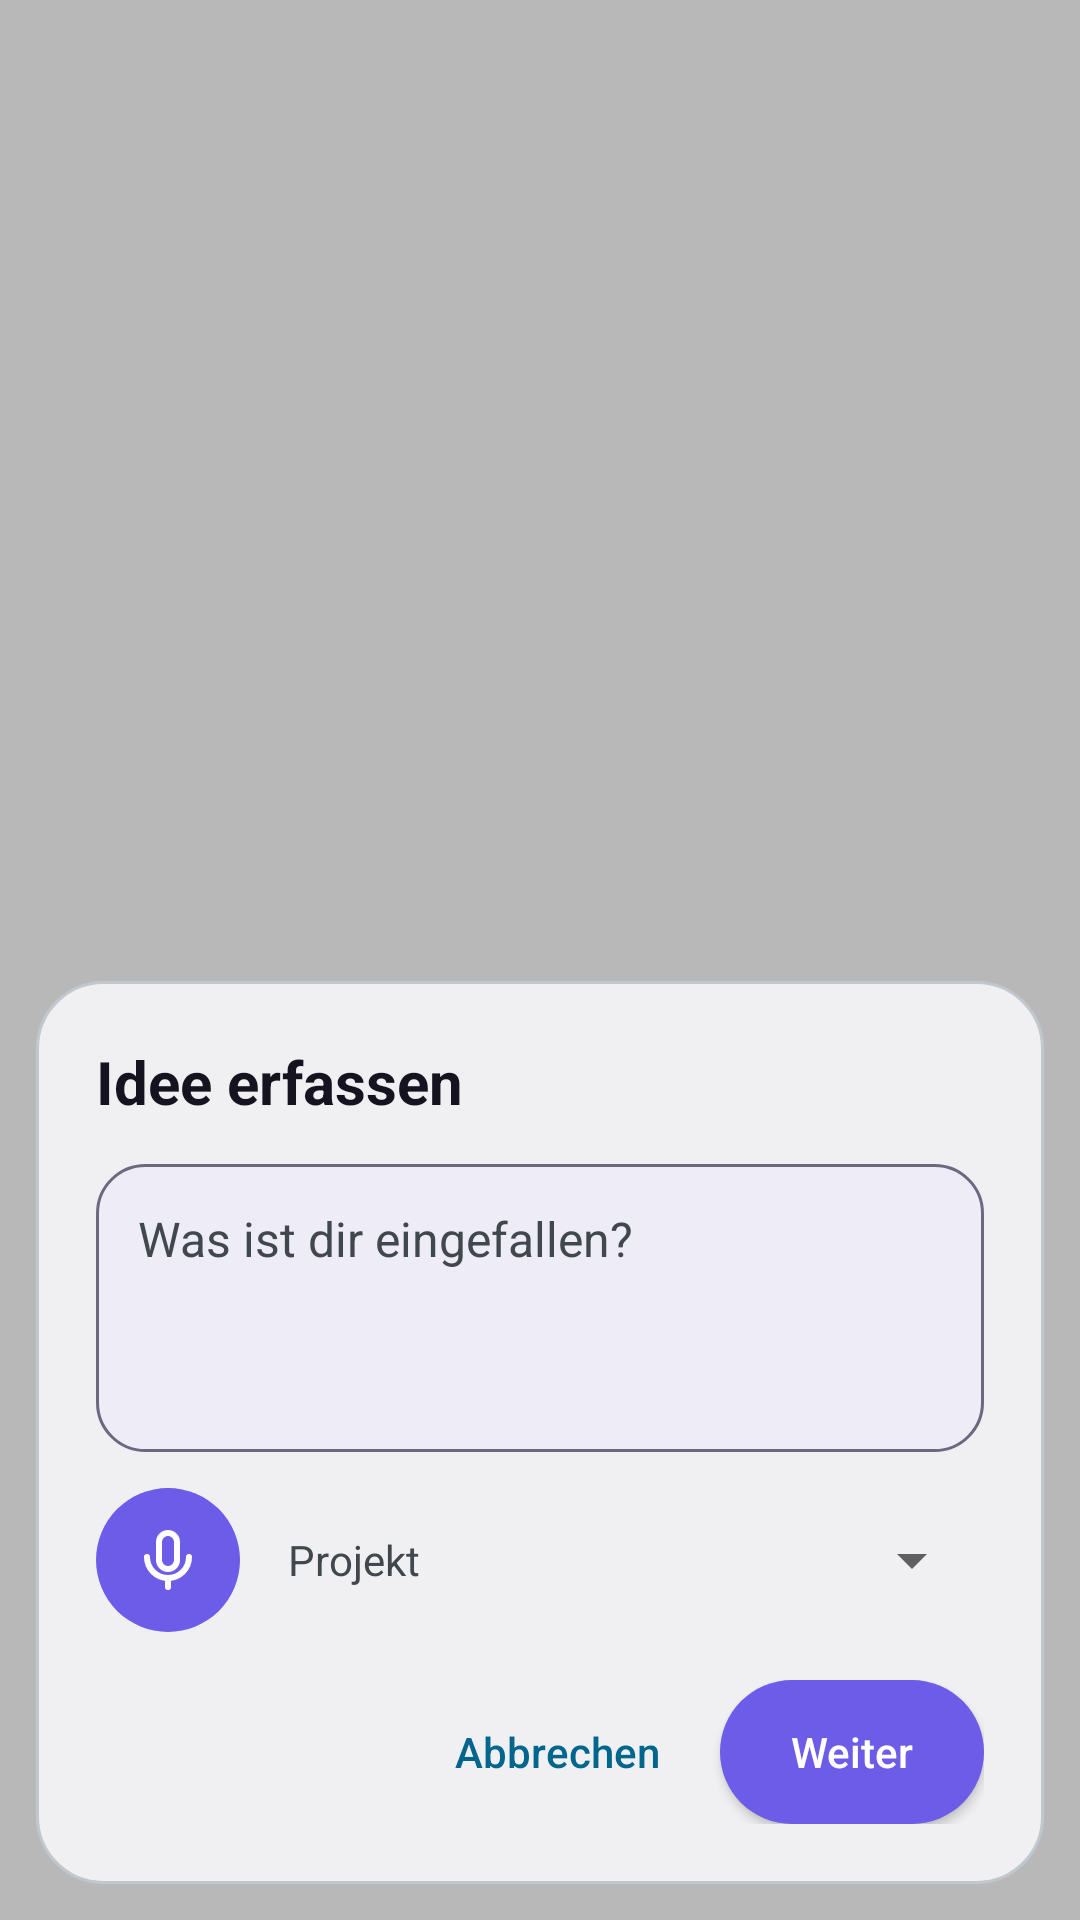

Icon bounding boxes for this 1080px×1920px phone screenshot, format (x1, y1, x2, y2):
Idee diktieren: (96, 1488, 240, 1632)
